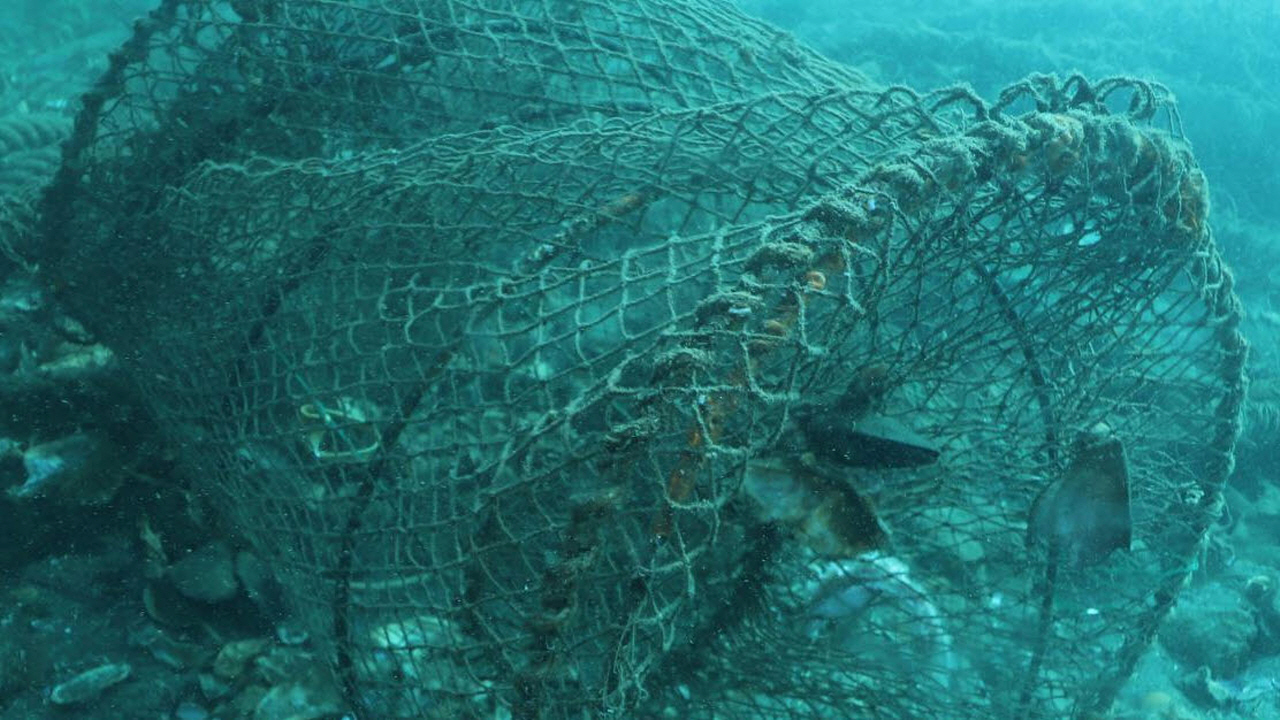spring fish trap: (37, 0, 1247, 720)
